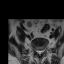CCS_normal: (38, 47, 40, 57)
LFS_normal: (42, 45, 44, 54)
LLS_normal: (40, 47, 42, 56)
RFS_normal: (33, 45, 36, 53)
RLS_normal: (36, 47, 38, 55)
